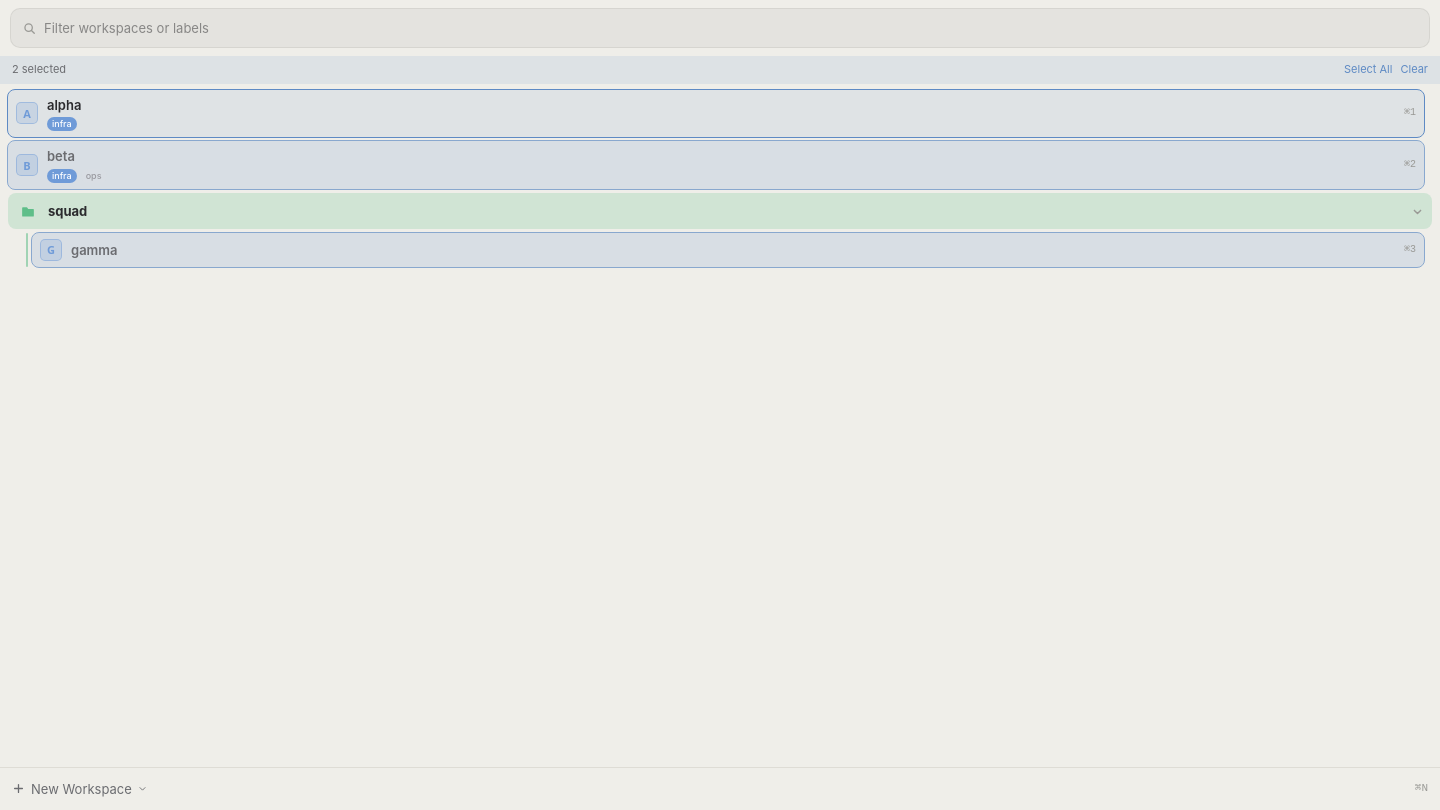
bulk context menu › keeps the single-row menu for a row OUTSIDE the selection
Right-click the option with test id "workspace-row" showing "A alpha infra ⌘1": [64, 105] box 8,90 -> 1424,137
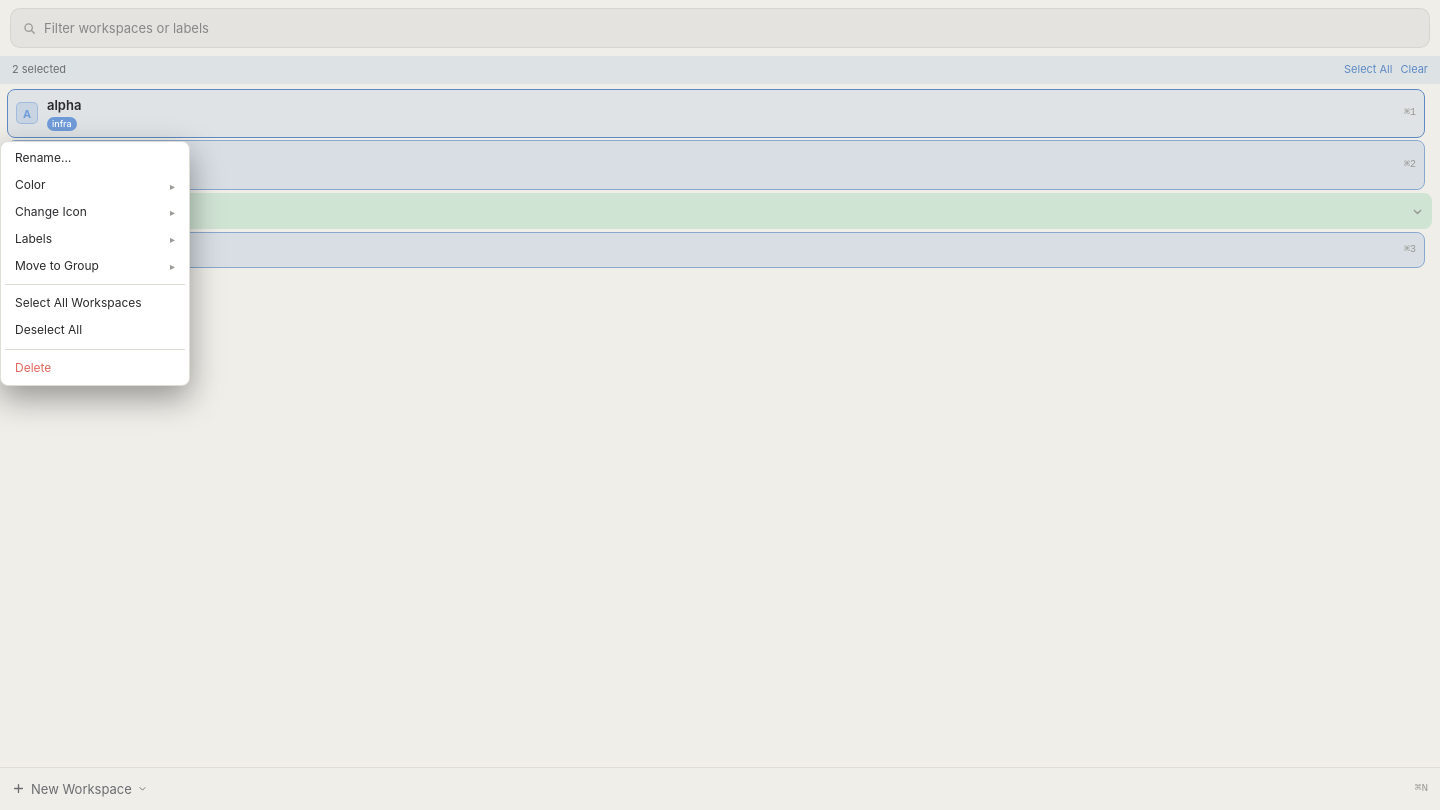
Check: the text "Rename…" is shown, box 15,150 -> 71,165
